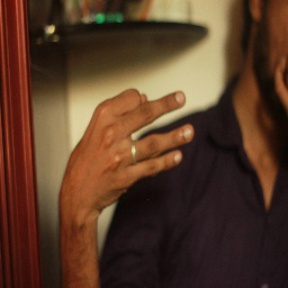K: (66, 87, 199, 189)
